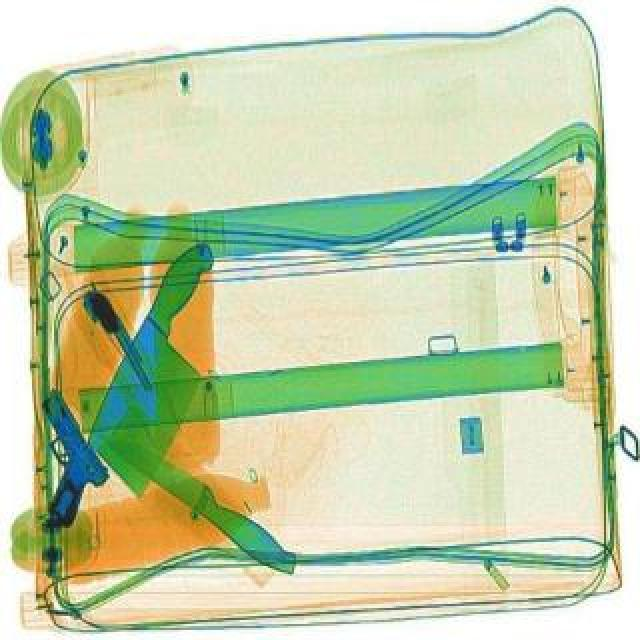gun: (0, 390, 124, 524), (76, 284, 168, 394)
knife: (70, 230, 252, 498), (86, 418, 306, 580)
